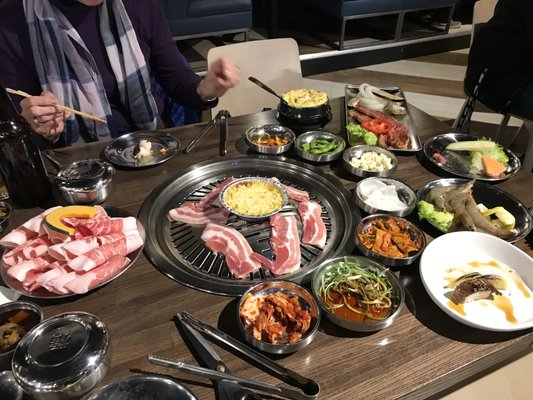sandwich: (147, 354, 311, 400), (249, 76, 285, 104), (217, 110, 231, 157), (218, 113, 228, 157)
sushi: (418, 231, 533, 334), (313, 255, 404, 333), (237, 280, 321, 357), (354, 215, 428, 267), (103, 131, 181, 168), (55, 159, 115, 205), (355, 176, 418, 218), (343, 145, 398, 179), (294, 130, 346, 164), (242, 124, 296, 156)
